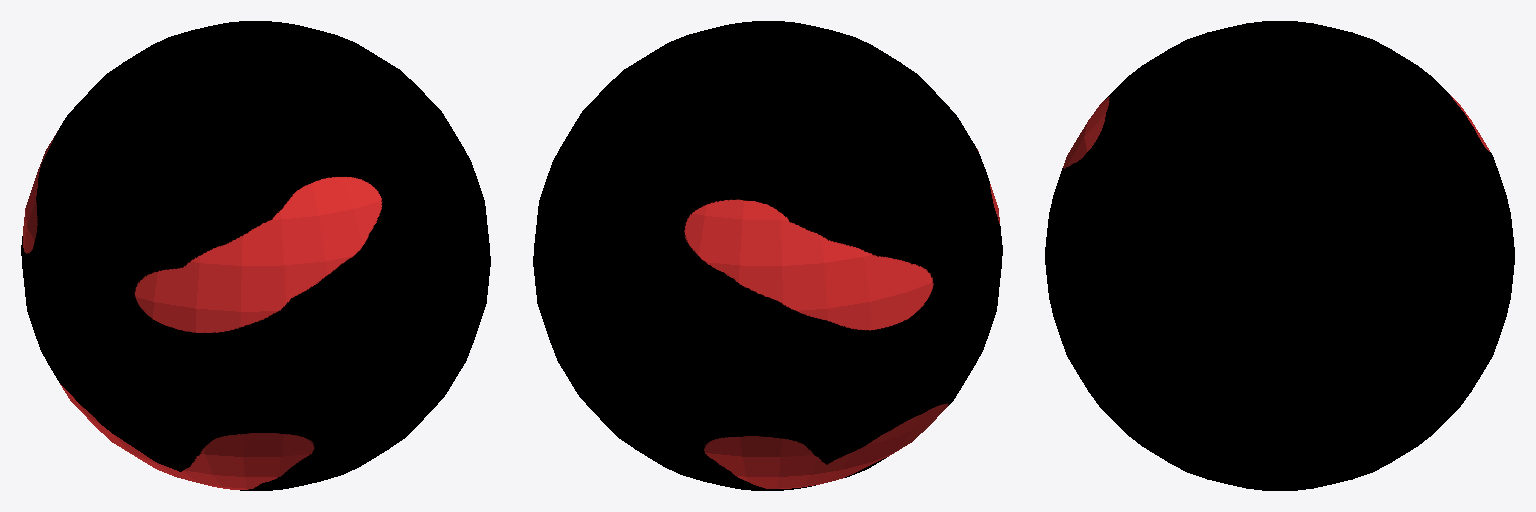
3 renders of one model, left to right at view 1: azimuth 30°, elevation 25°; view 2: azimuth 150°, elevation 25°; view 3: azimuth 270°, elevation 25°, orthographic.
Parts seen in each view (by area): view 1: 球; view 2: 球; view 3: 球.
Boxes of the visible parts, x1=… form: 球: x1=21, y1=21, x2=490, y2=490; 球: x1=533, y1=21, x2=1002, y2=490; 球: x1=1045, y1=21, x2=1514, y2=490.
Size of the model in its own units: 2 by 2 by 2.
Materials: 1 (1 with a texture image).